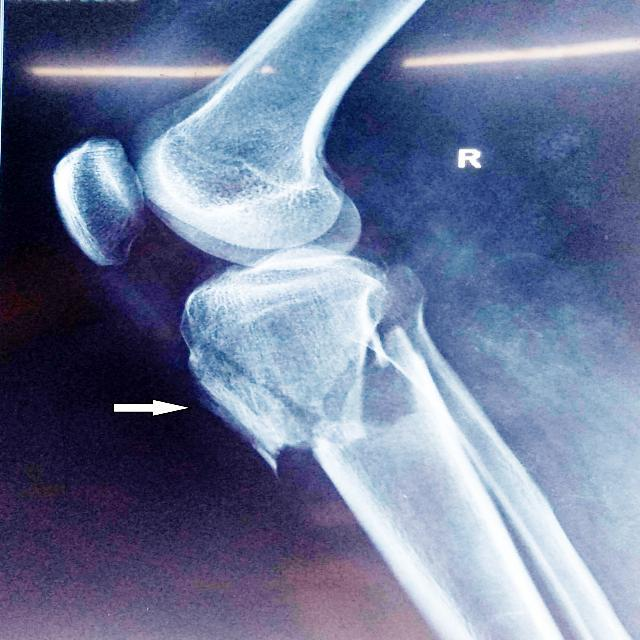Avlusion Fracture: (198, 386, 287, 474)
